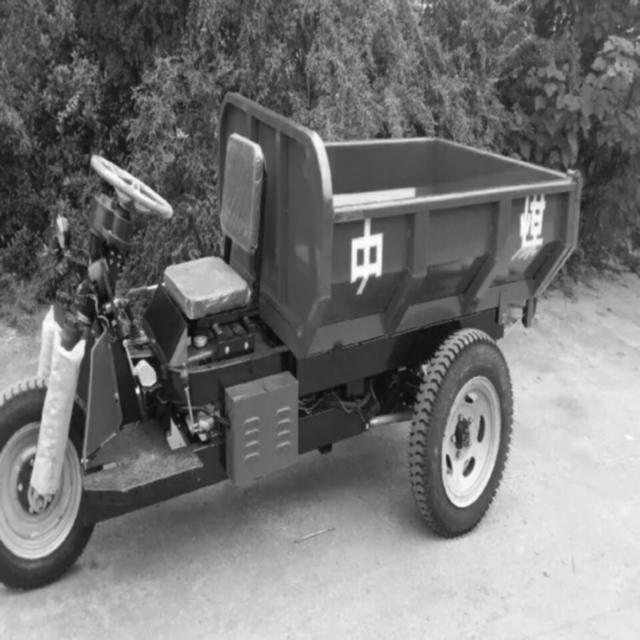tricycle: (0, 90, 583, 588)
